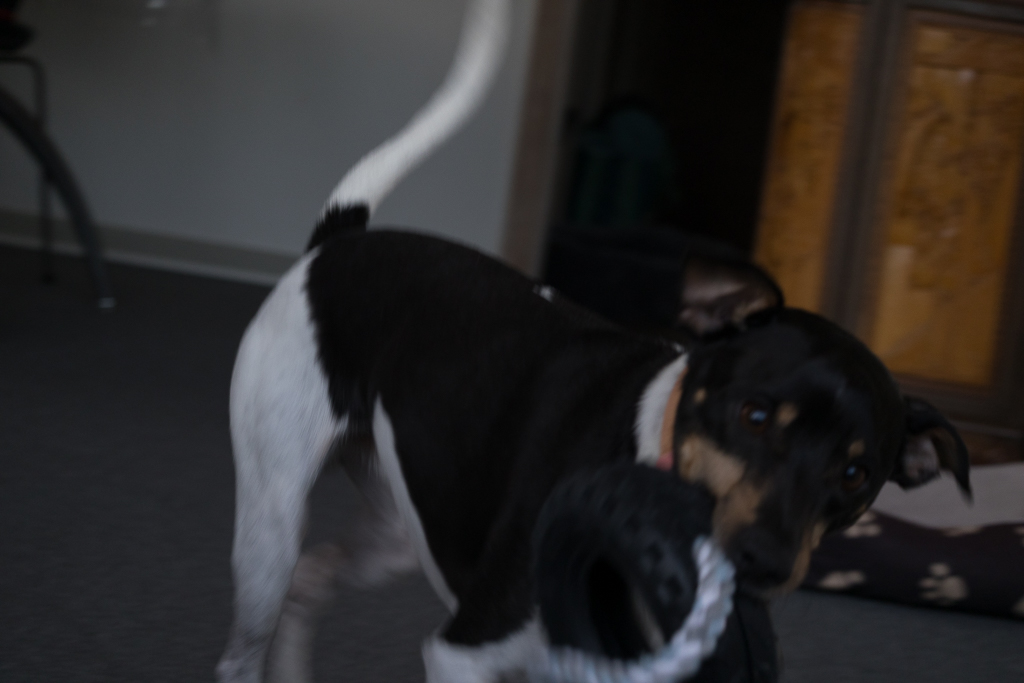Dog: (202, 0, 984, 683)
